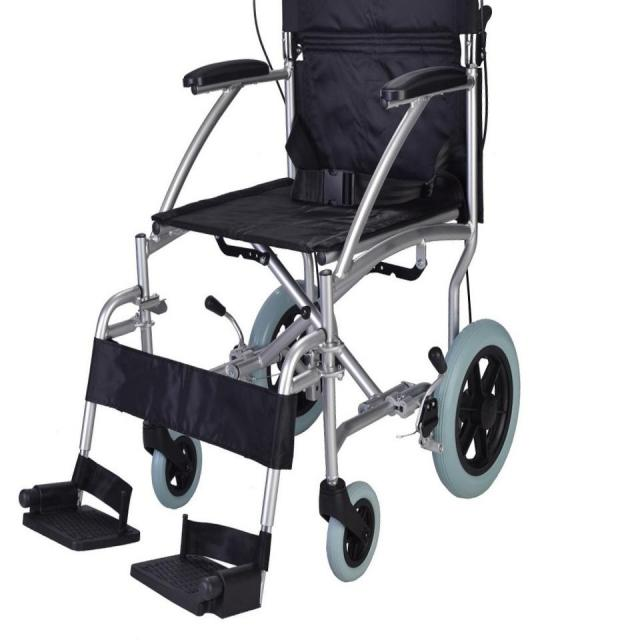wheelchair: (16, 0, 550, 627)
